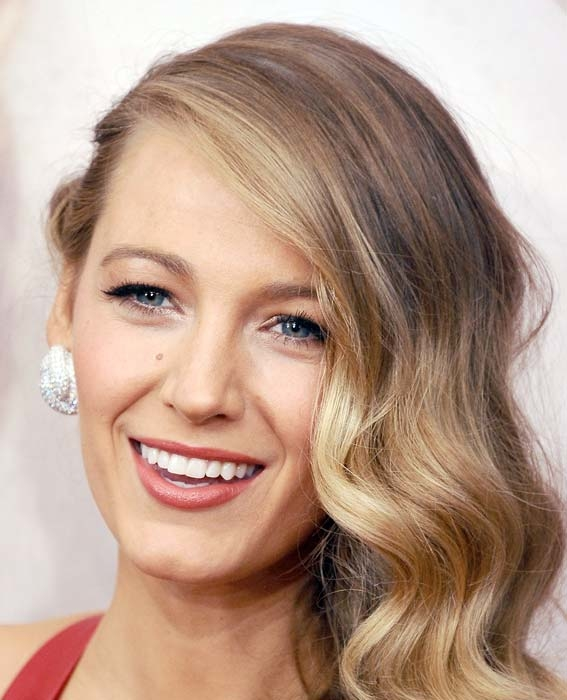mole: (146, 347, 168, 365)
